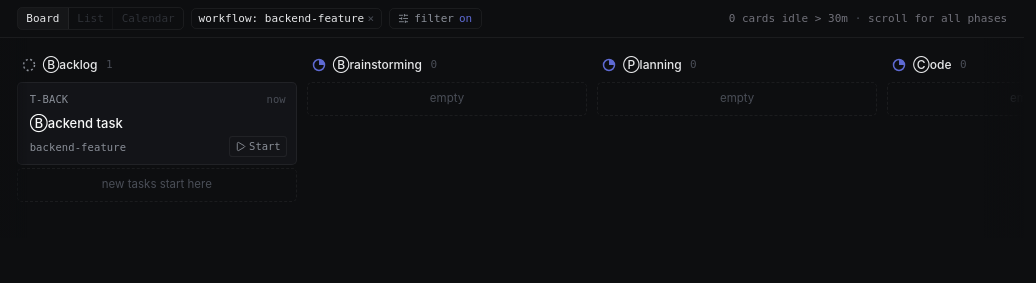
Test: KanbanBoard › filters visible cards by workflow and removes a filter pill
Expected: the text "Backend task" is shown, [30,115,123,131]
Expected: the text "No workflow task" is not shown
Click the button named "Remove workflow filter": (371, 18) [368,10,374,27]
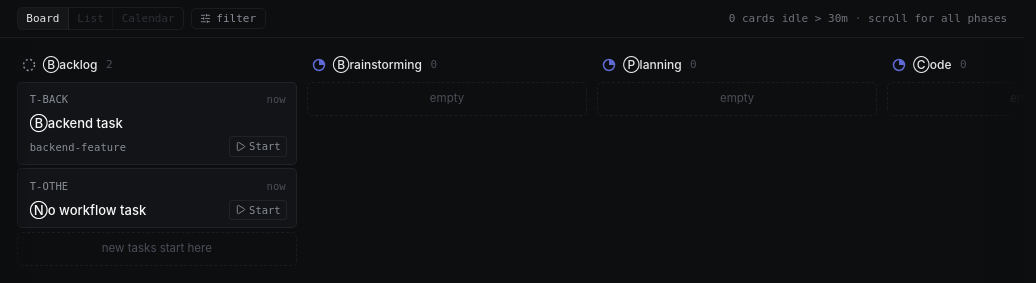
Result: the text "No workflow task" is shown at [30,202,146,218]
